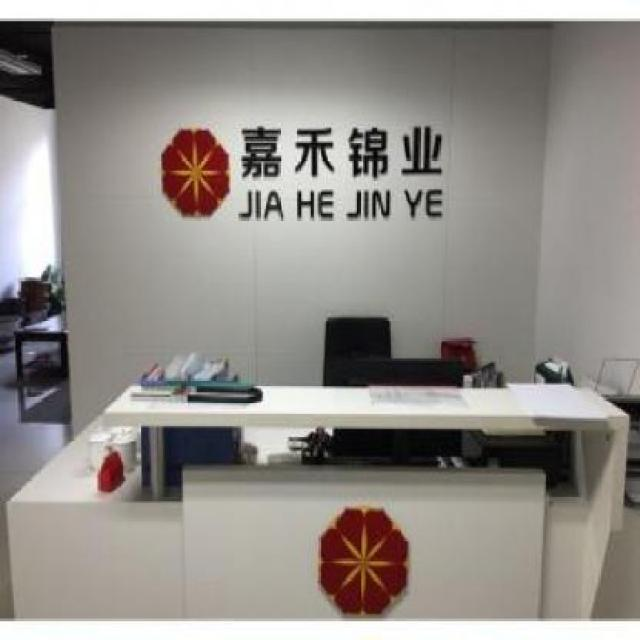frontdesk: (0, 360, 640, 640)
